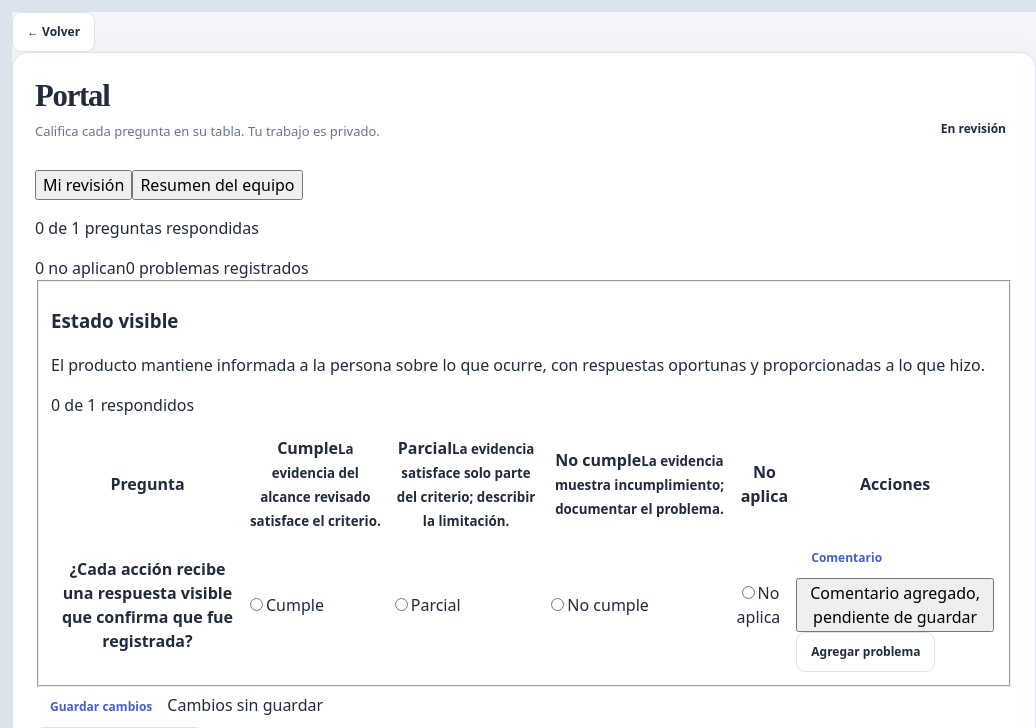
Test: flujo individual › recupera borrador con su revisión original y evita sobrescribir cambios ajenos
Click the button named "Comentario de ": [847, 558] box [796,538,897,578]
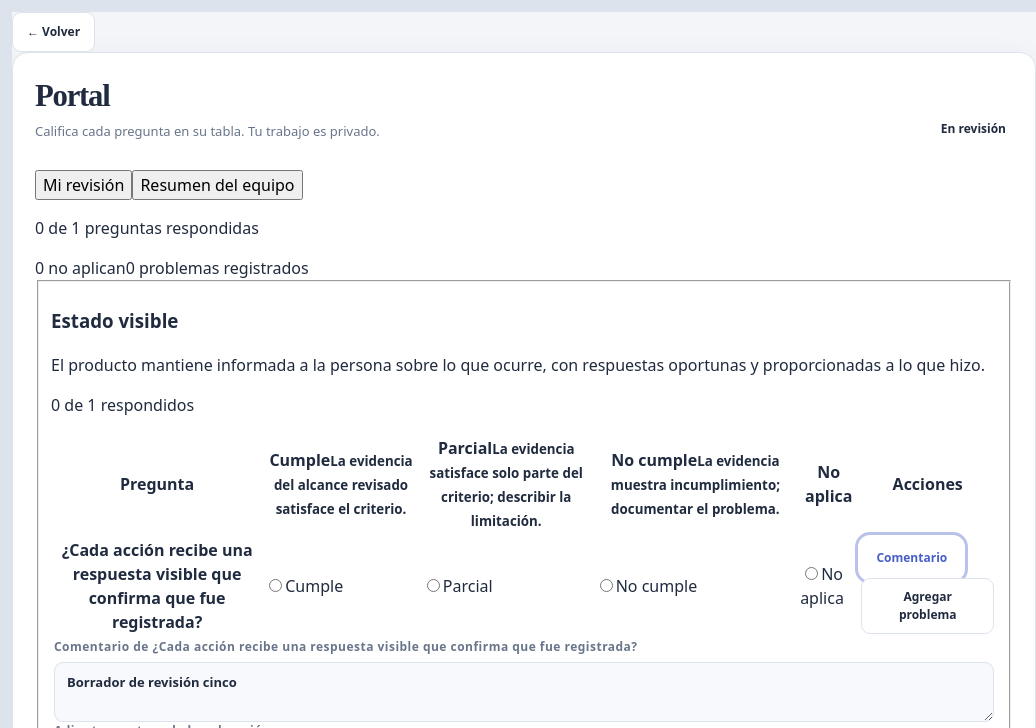
expect the text box labelled "Comentario de " holds "Borrador de revisión cinco": met, box [54,662,994,722]
